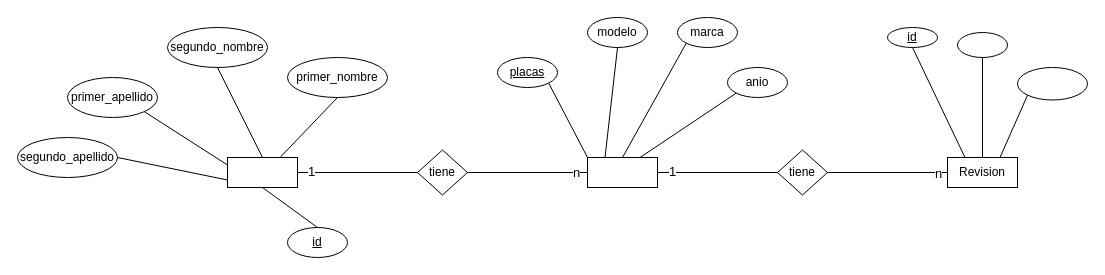
Image size: 1105x275. Some labels were removed from this diagram. Each missing label, with the centre of its shape:
"Carro" goes at (622,172).
"Cliente" goes at (262,172).
"descripcion" goes at (1052,83).
"fecha" goes at (982,45).
